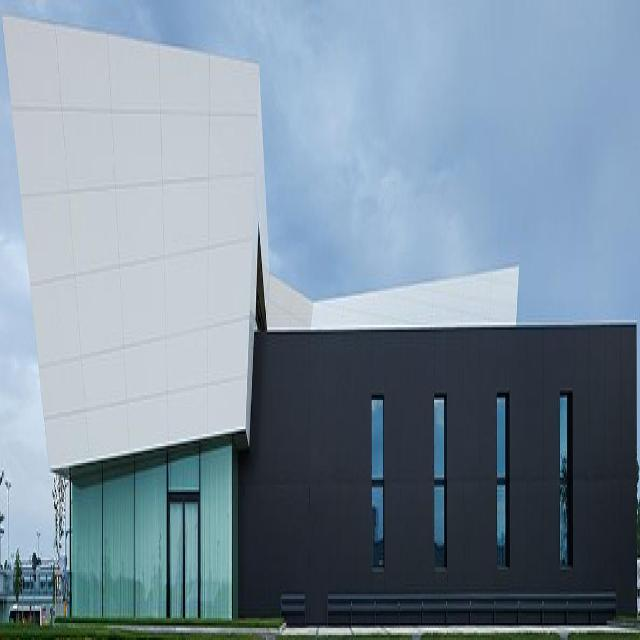door: (167, 487, 201, 623)
wall: (3, 16, 638, 621)
windows: (73, 438, 232, 620), (372, 397, 384, 566), (496, 392, 508, 560), (434, 396, 446, 563), (561, 396, 569, 563)
